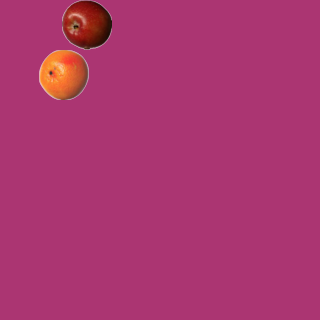Apple Braeburn: (61, 0, 111, 49)
Grapefruit Pink: (38, 49, 88, 99)
